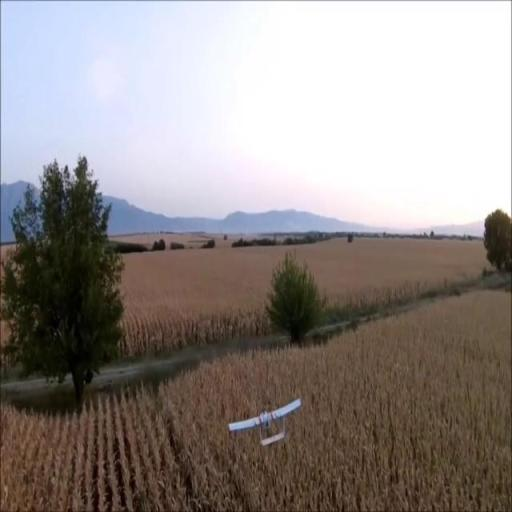uav: (229, 397, 301, 446)
